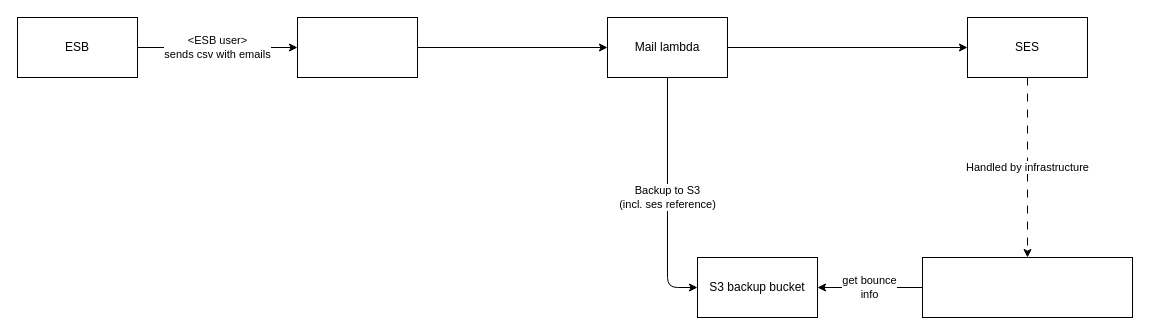
Image size: 1150x335. Some labels were removed from this diagram. The centre of each missing label's shape, as x and y in pixels:
"Bounces <webformulieren project>" goes at point 1027,287.
"SQS" goes at point 357,47.
